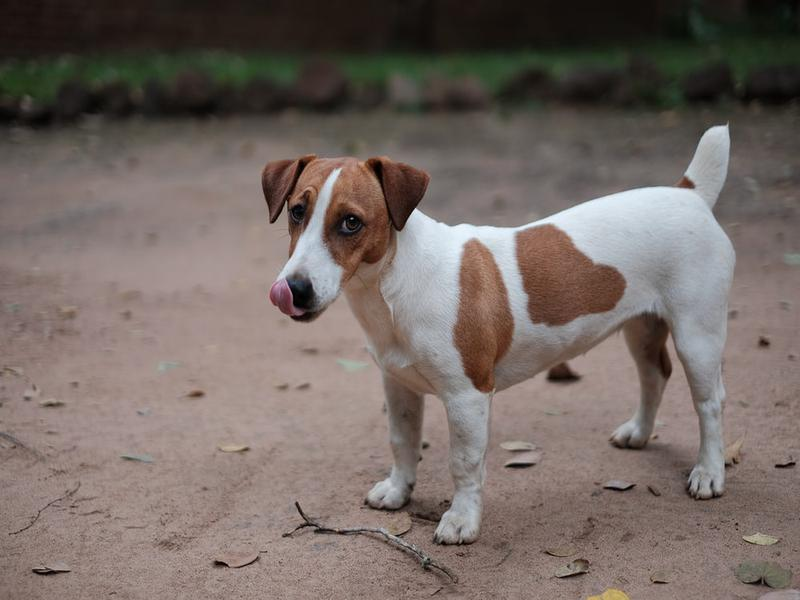dog_stand: (258, 121, 733, 552)
